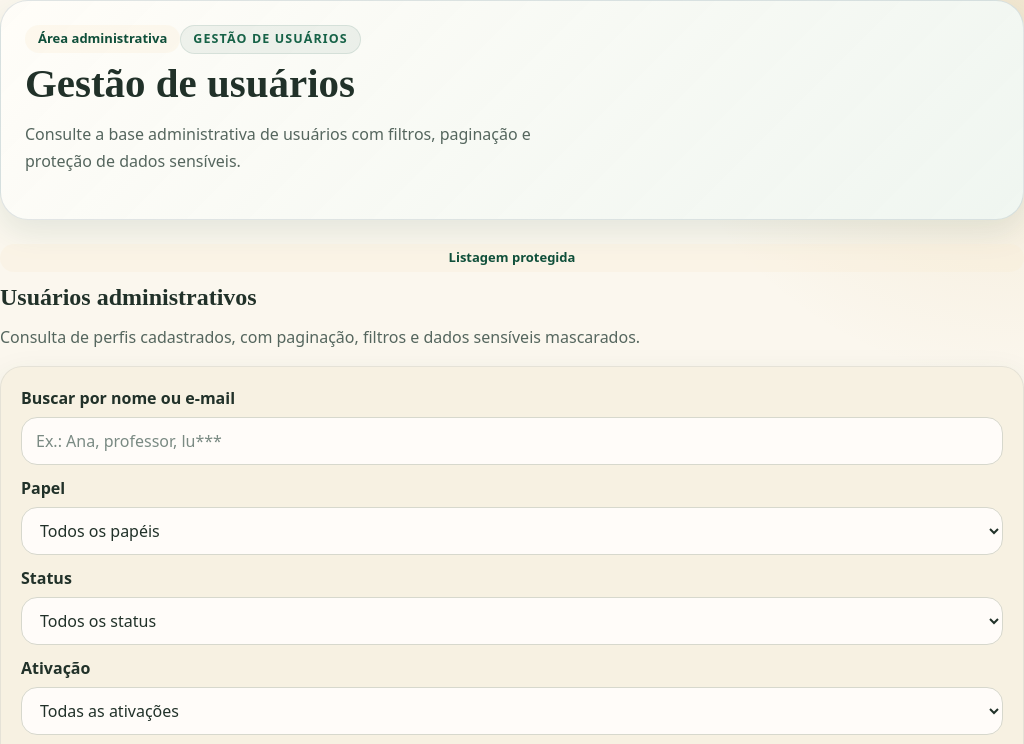
Test: AdminUsersPage › renderiza estado vazio com filtros aplicados
The image size is (1024, 744).
Type "Inexistente" into the field labelled "Buscar por nome ou e-mail".
click(512, 441); type("Inexistente")  # box [21,417,1003,465]
(page scrolled)
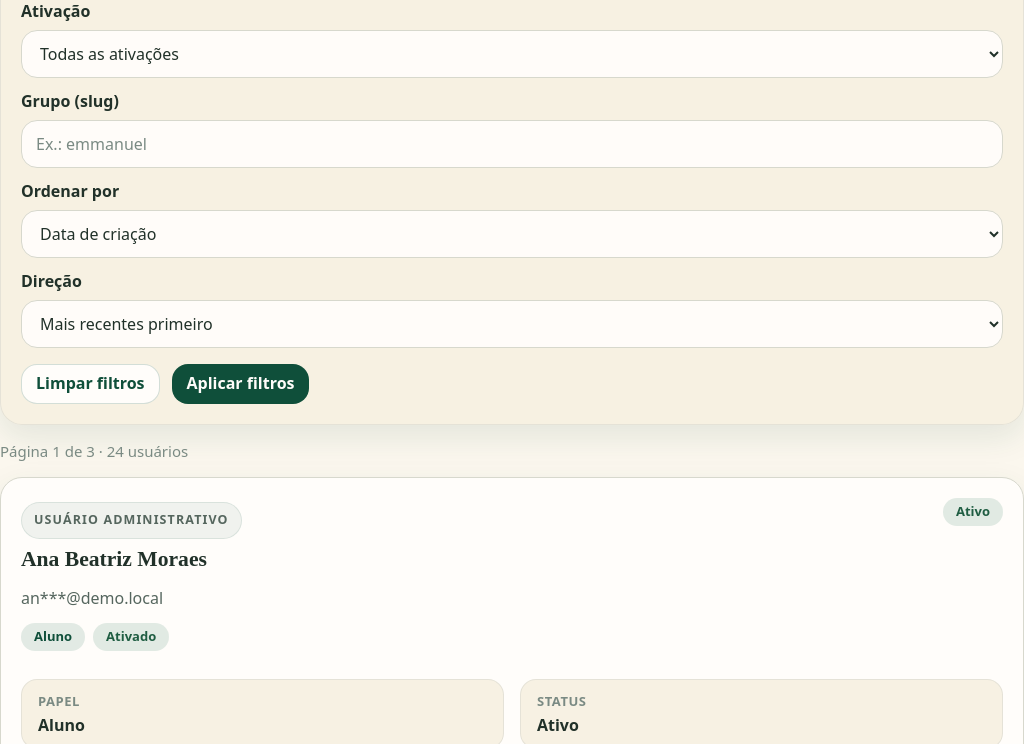
Click the button "Aplicar filtros".
click(240, 384)  # box [172,364,309,404]
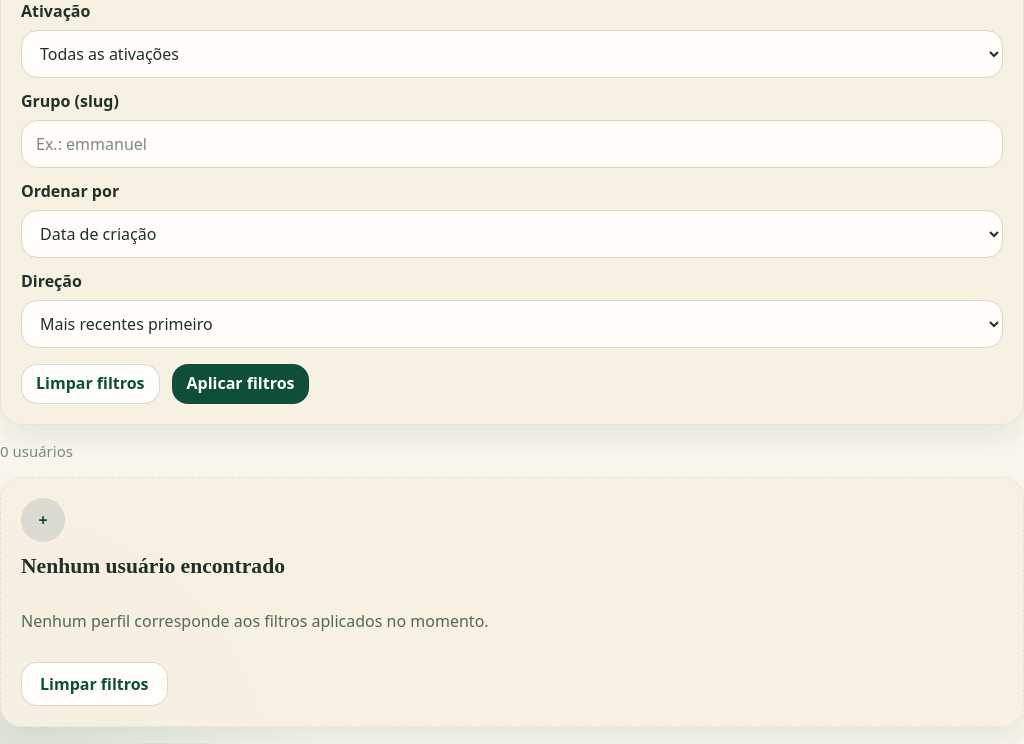
Expected: the button "Limpar filtros" below "Direção" is shown, [21,364,160,404]
Now the heading "Nenhum usuário encontrado" is shown, box [21,554,285,580]
